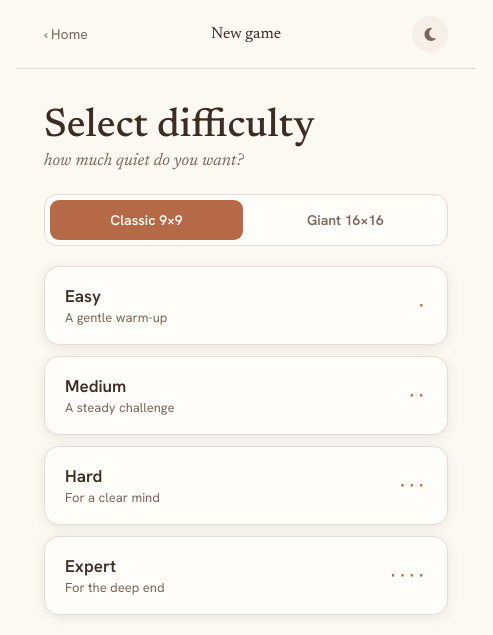
Test: SelectDifficultyPage › hides Hard and Expert when Giant 16x16 is selected
The width and height of the screenshot is (493, 635).
What coordinates should you click on to do the following:
click the button "Giant 16×16"
I would click on:
 (346, 220)
Its box is x1=249 y1=200 x2=442 y2=240.
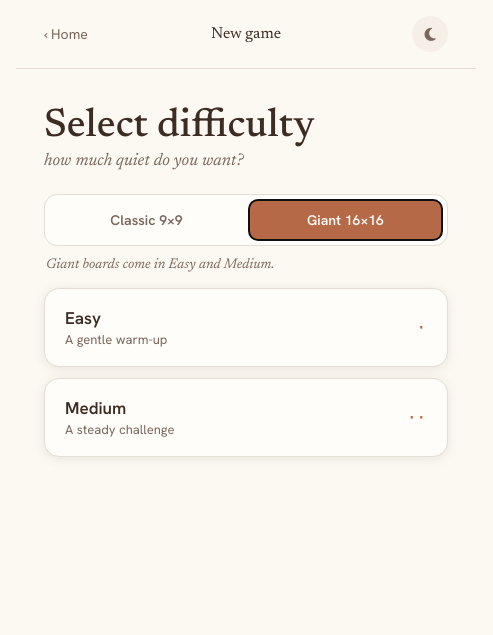
expect the button "Easy A gentle warm-up ·" is shown: met, box x1=44 y1=288 x2=448 y2=367
expect the button "Hard" is gone: met
expect the button "Expert" is gone: met
